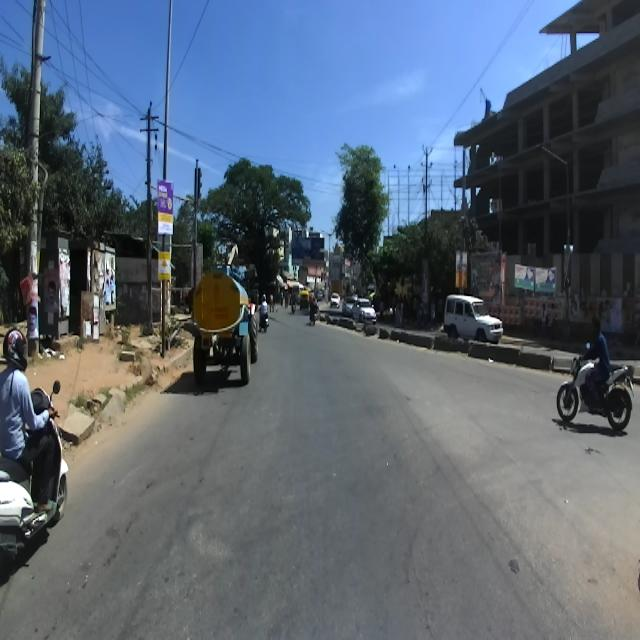electric pole ahead at: (128, 84, 162, 341)
motorcycle ahead at: (0, 375, 72, 563), (554, 348, 635, 443)
truck ahead at: (180, 244, 271, 399)
